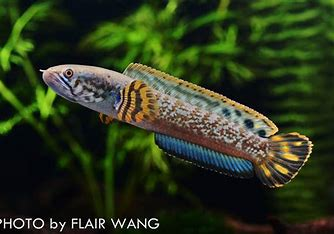Fish: (23, 46, 314, 193)
